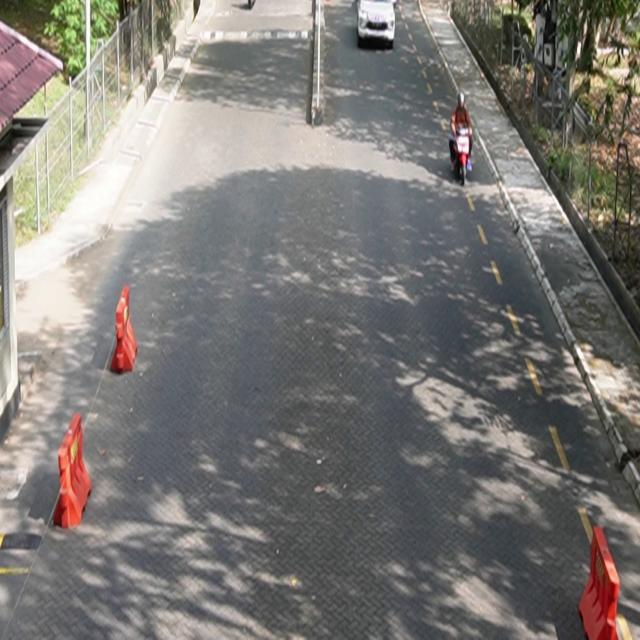car: (357, 1, 397, 49)
